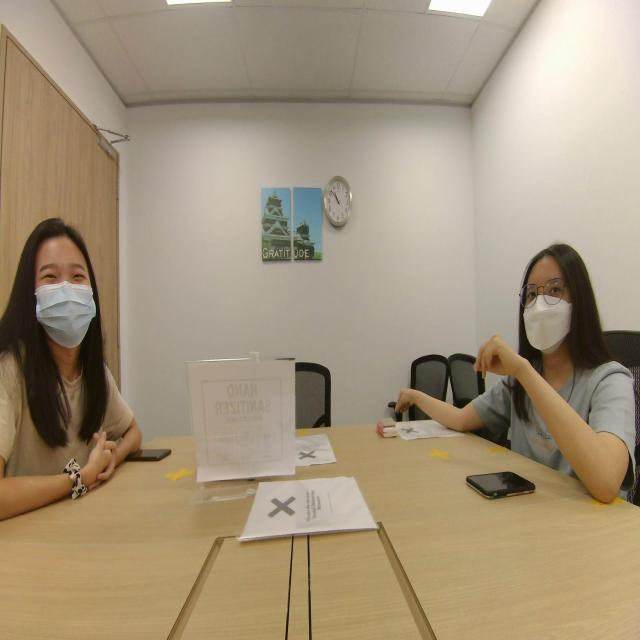obstacle: (477, 208, 636, 471), (9, 204, 126, 450)
